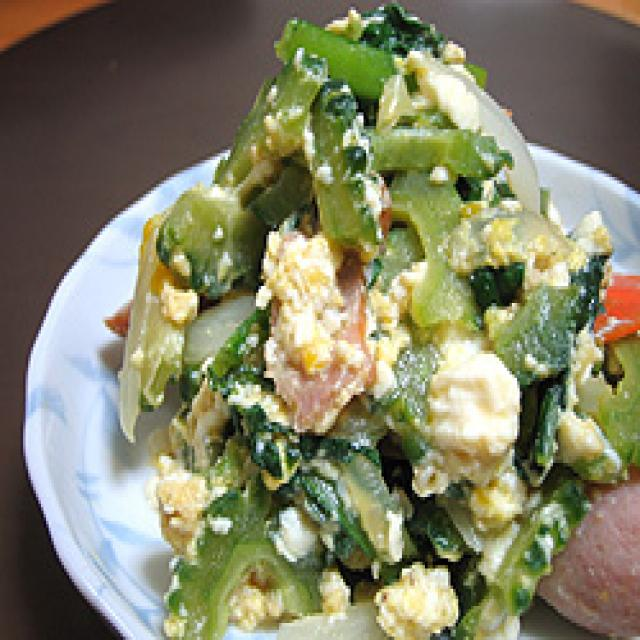熟制海鲜: (18, 0, 640, 637)
